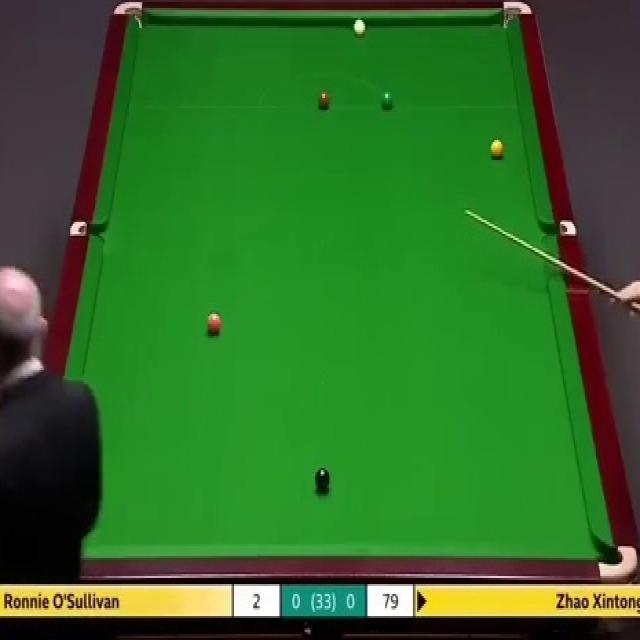pocket: (597, 542, 637, 583), (499, 0, 532, 32), (114, 1, 143, 28), (540, 218, 576, 237), (67, 222, 105, 238)
